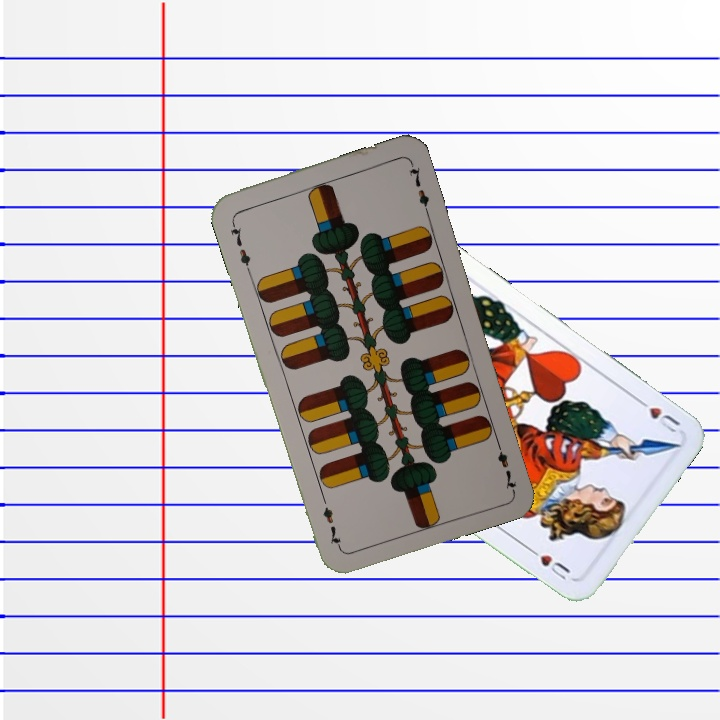E7: (226, 215, 254, 273), (491, 435, 518, 493)
HU: (632, 393, 684, 436)
